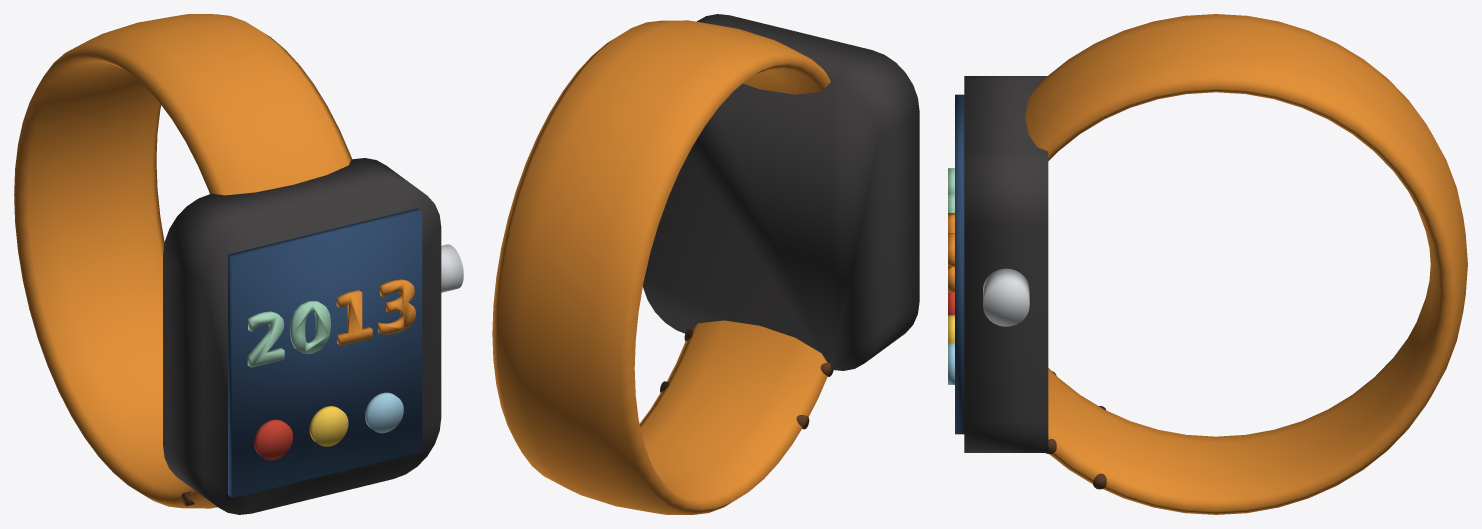
File: smart-watch.glb
3 views of the same model, side by side, from view 1: azimuth 30°, elevation 25°; view 2: azimuth 150°, elevation 25°; view 3: azimuth 270°, elevation 25° (orthographic). The views are drawn at different scales.
Visible parts, largest first — view 1: part3, part1, part0, part2, part5, part6, part4, part7; view 2: part3, part0; view 3: part3, part0, part1, part7.
Boxes of the visible parts, bbox=[...] form: part3: bbox=[14, 14, 415, 508]; part1: bbox=[228, 208, 422, 497]; part0: bbox=[163, 158, 441, 514]; part2: bbox=[247, 301, 330, 367]; part5: bbox=[309, 406, 348, 446]; part6: bbox=[365, 392, 403, 433]; part4: bbox=[254, 419, 292, 460]; part7: bbox=[441, 244, 463, 292]; part3: bbox=[492, 20, 830, 514]; part0: bbox=[643, 14, 919, 370]; part3: bbox=[948, 14, 1467, 514]; part0: bbox=[964, 76, 1048, 452]; part1: bbox=[955, 94, 964, 434]; part7: bbox=[983, 268, 1029, 326].
Size of the model in its own units: 0.6099 by 0.9686 by 1.
